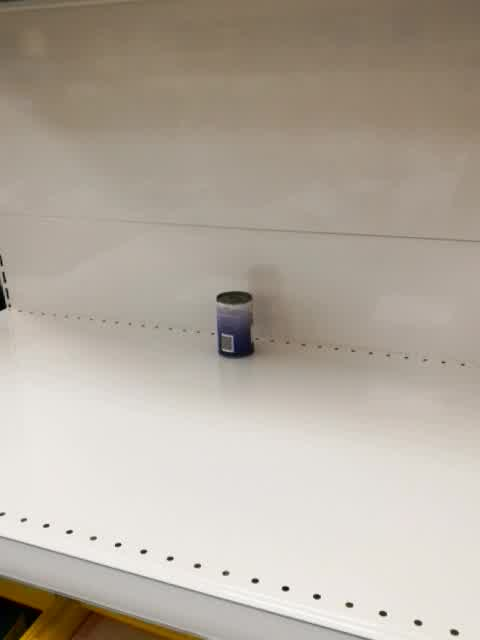sardine: (215, 291, 257, 359)
